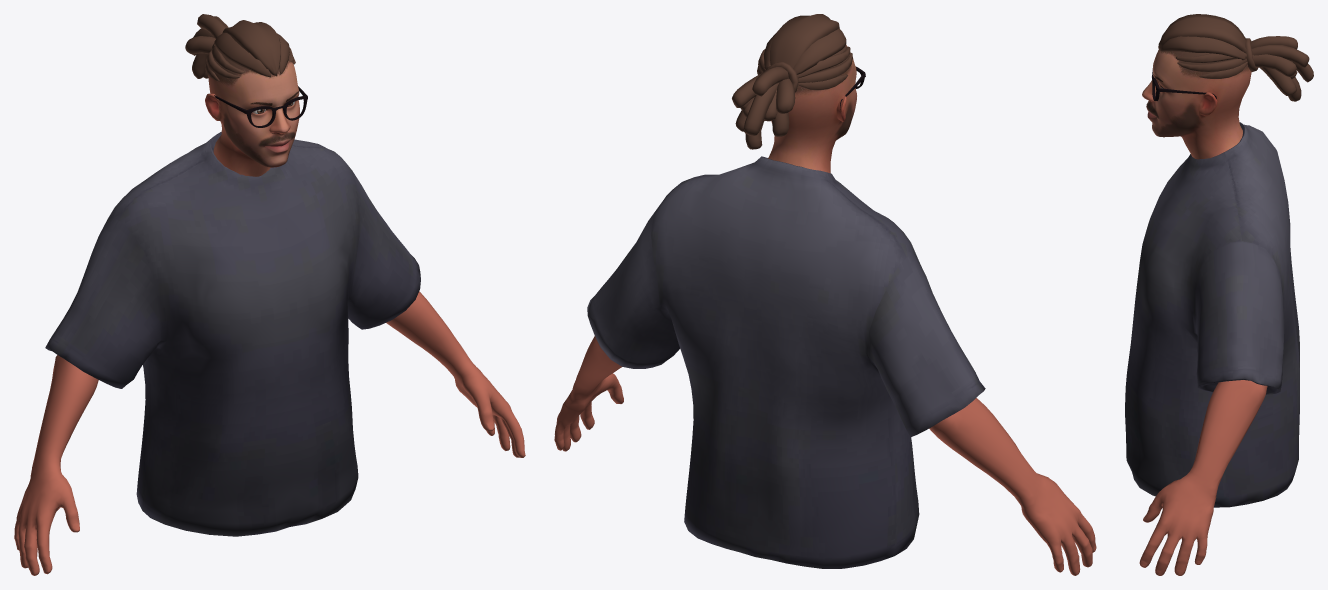
File: profile_upper.glb
3 views of the same model, side by side, from view 1: azimuth 30°, elevation 25°; view 2: azimuth 150°, elevation 25°; view 3: azimuth 270°, elevation 25° (orthographic). The views are drawn at different scales.
Parts seen in each view (by area): view 1: Wolf3D_Outfit_Top, Wolf3D_Body, Wolf3D_Head, Wolf3D_Hair, Wolf3D_Glasses; view 2: Wolf3D_Outfit_Top, Wolf3D_Body, Wolf3D_Hair, Wolf3D_Head; view 3: Wolf3D_Outfit_Top, Wolf3D_Body, Wolf3D_Head, Wolf3D_Hair, Wolf3D_Glasses.
Part boxes in pixels (<box>): Wolf3D_Outfit_Top: <box>45,132,420,536</box>; Wolf3D_Body: <box>14,291,525,575</box>; Wolf3D_Head: <box>205,55,299,176</box>; Wolf3D_Hair: <box>185,14,295,81</box>; Wolf3D_Glasses: <box>214,86,307,127</box>; Wolf3D_Outfit_Top: <box>587,156,985,568</box>; Wolf3D_Body: <box>554,336,1096,575</box>; Wolf3D_Hair: <box>732,14,852,149</box>; Wolf3D_Head: <box>768,44,856,173</box>; Wolf3D_Outfit_Top: <box>1125,122,1299,507</box>; Wolf3D_Body: <box>1139,380,1267,575</box>; Wolf3D_Head: <box>1142,48,1251,159</box>; Wolf3D_Hair: <box>1158,14,1313,101</box>; Wolf3D_Glasses: <box>1152,70,1216,100</box>.
Bounding box in the file's own units: 1.06 × 0.9747 × 0.3719.
7 materials, 7 textured.
